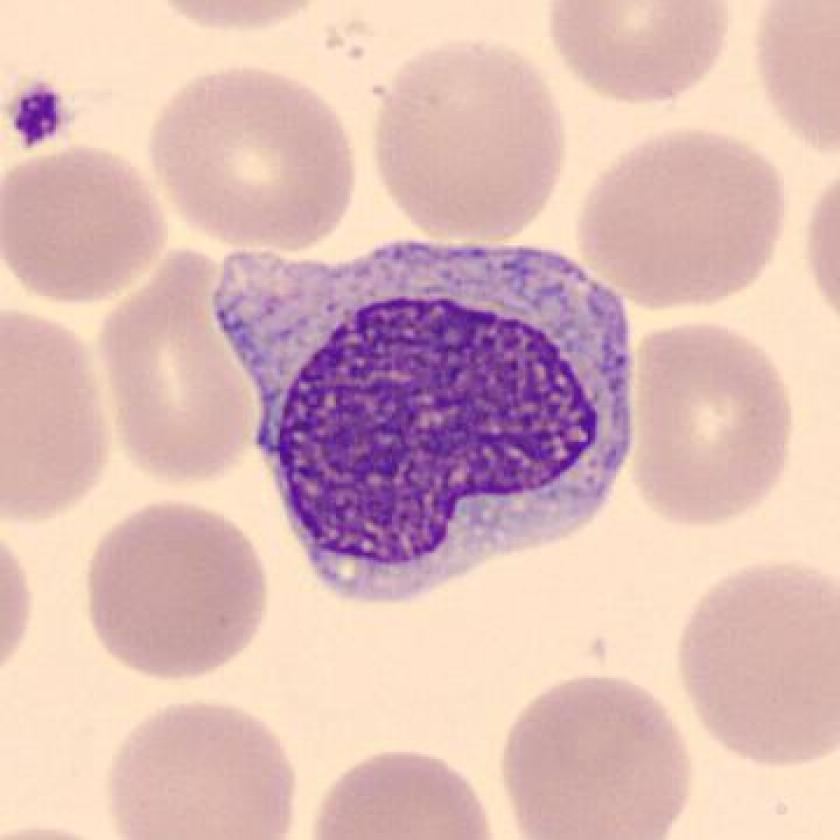monocyte: (183, 221, 652, 621)
